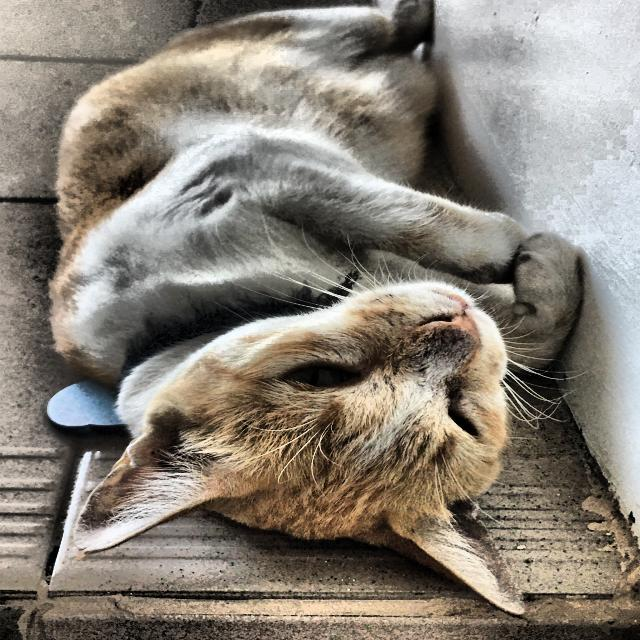Healthy skin: (216, 220, 536, 421)
